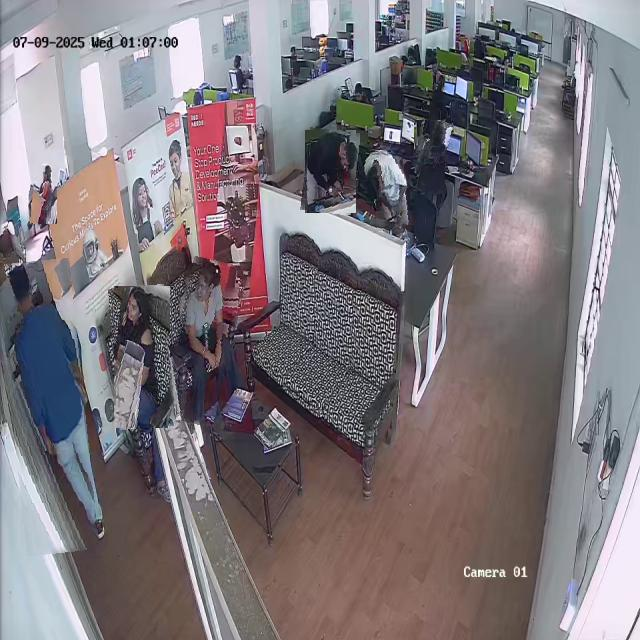person: (3, 259, 92, 554), (167, 258, 241, 426), (111, 285, 173, 429), (303, 129, 358, 214), (361, 146, 412, 230), (410, 119, 449, 195), (32, 165, 58, 224)
